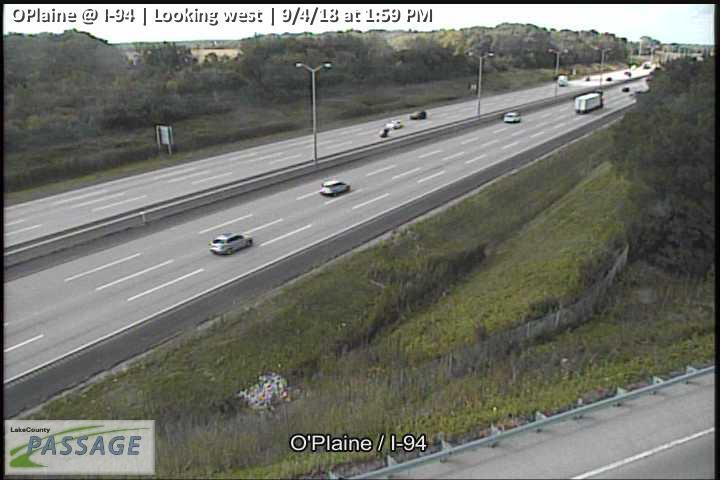SUV: (210, 232, 253, 255), (320, 180, 350, 196), (504, 111, 519, 123), (410, 110, 426, 120)
Truck: (574, 91, 603, 113), (558, 74, 568, 84)
